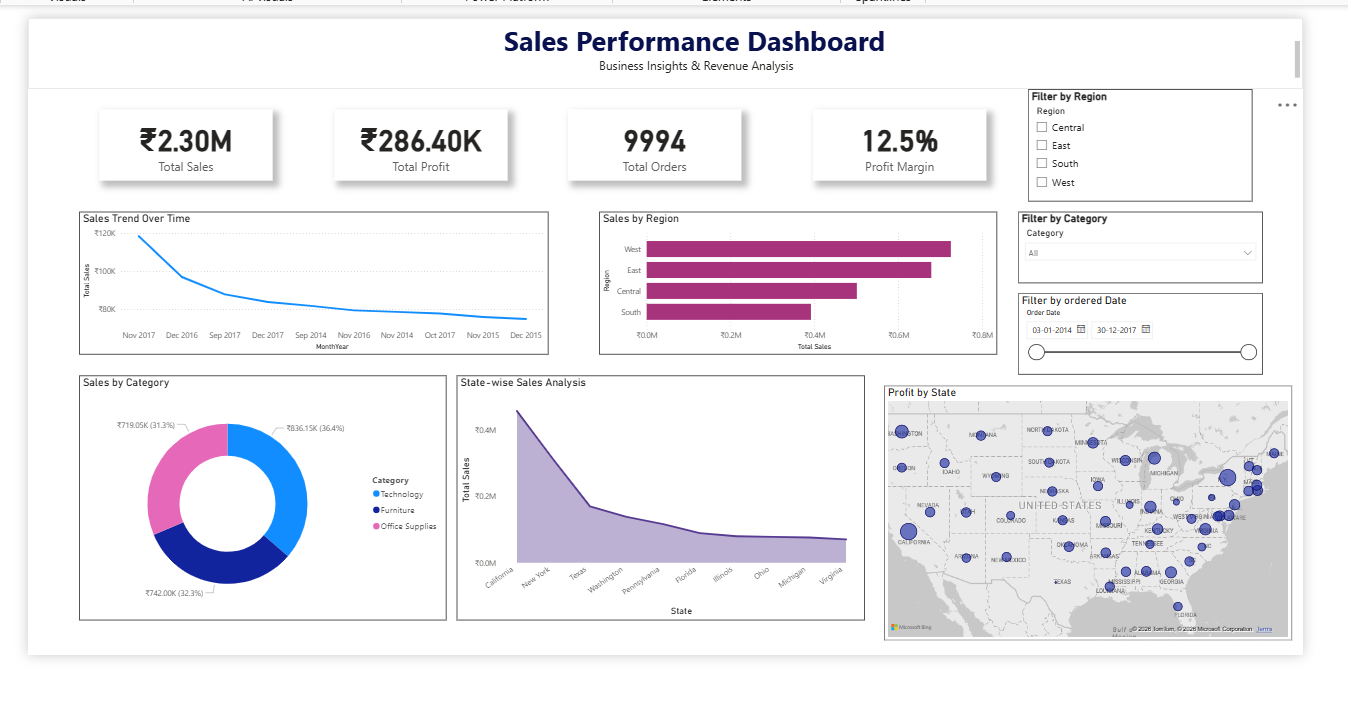

Layout of this report page (visuals, bound fields, positions):
{"tool":"powerbi","page":{"name":"Page 1","canvas":[2000,1000],"ordinal":0},"visuals":[{"type":"textbox","box":[0,0,2000,112],"z":0},{"type":"card","fields":{"Values":["Sample - Superstore.Total Sales"]},"box":[112,144,272,112],"z":1000},{"type":"card","fields":{"Values":["Sample - Superstore.Total Profit"]},"box":[480,144,272,112],"z":2000},{"type":"card","fields":{"Values":["Sample - Superstore.Total Orders"]},"box":[848,144,272,112],"z":3000},{"type":"card","fields":{"Values":["Sample - Superstore.Profit Margin"]},"box":[1232,144,272,112],"z":4000},{"type":"lineChart","title":"Sales Trend Over Time","fields":{"Y":["Sample - Superstore.Total Sales"],"Category":["Sample - Superstore.MonthYear"]},"box":[80,304,736,224],"z":5000},{"type":"clusteredBarChart","title":"Sales by Region","fields":{"Y":["Sample - Superstore.Total Sales"],"Category":["Sample - Superstore.Region"]},"box":[896,304,624,224],"z":6000},{"type":"donutChart","title":"Sales by Category","fields":{"Y":["Sample - Superstore.Total Sales"],"Category":["Sample - Superstore.Category"]},"box":[80,560,576,384],"z":7000},{"type":"areaChart","title":"State-wise Sales Analysis","fields":{"Category":["Sample - Superstore.State"],"Y":["Sample - Superstore.Total Sales"]},"box":[672,560,640,384],"z":8000},{"type":"slicer","title":"Filter by Region","fields":{"Values":["Sample - Superstore.Region"]},"box":[1568,112,352,176],"z":9000},{"type":"slicer","title":"Filter by Category","fields":{"Values":["Sample - Superstore.Category"]},"box":[1552,304,384,112],"z":10000},{"type":"slicer","title":"Filter by ordered Date","fields":{"Values":["Sample - Superstore.Order Date"]},"box":[1552,432,384,128],"z":11000},{"type":"map","title":"Profit by State","fields":{"Category":["Sample - Superstore.State"],"Size":["Sample - Superstore.Total Profit"]},"box":[1344,576,640,400],"z":12000}]}

Visuals, with their boxes in screenshot pixels (x1, y1, x2, y2):
textbox: (x1=21, y1=14, x2=1303, y2=86)
card - Sample - Superstore.Total Sales: (x1=93, y1=106, x2=267, y2=178)
card - Sample - Superstore.Total Profit: (x1=329, y1=106, x2=503, y2=178)
card - Sample - Superstore.Total Orders: (x1=565, y1=106, x2=739, y2=178)
card - Sample - Superstore.Profit Margin: (x1=811, y1=106, x2=985, y2=178)
"Sales Trend Over Time" lineChart: (x1=72, y1=209, x2=544, y2=353)
"Sales by Region" clusteredBarChart: (x1=596, y1=209, x2=996, y2=353)
"Sales by Category" donutChart: (x1=72, y1=373, x2=442, y2=619)
"State-wise Sales Analysis" areaChart: (x1=452, y1=373, x2=862, y2=619)
"Filter by Region" slicer: (x1=1026, y1=86, x2=1252, y2=199)
"Filter by Category" slicer: (x1=1016, y1=209, x2=1262, y2=281)
"Filter by ordered Date" slicer: (x1=1016, y1=291, x2=1262, y2=373)
"Profit by State" map: (x1=883, y1=383, x2=1293, y2=640)
